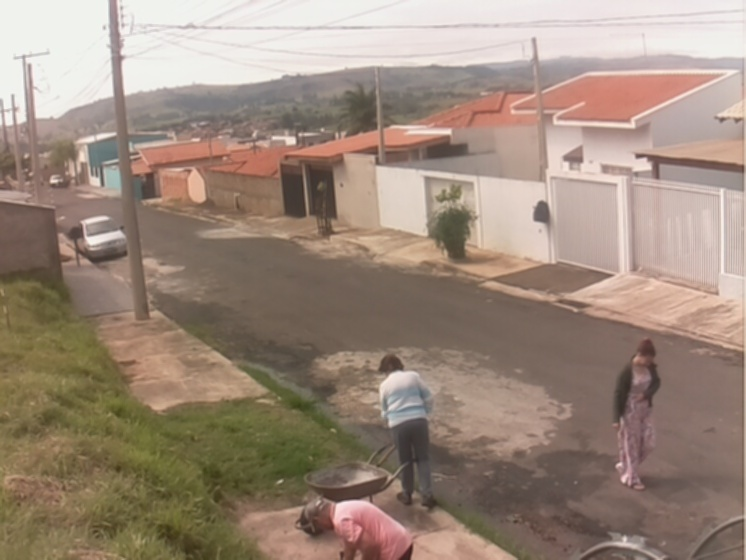person: (377, 353, 438, 507), (610, 337, 662, 490), (304, 496, 414, 560)
